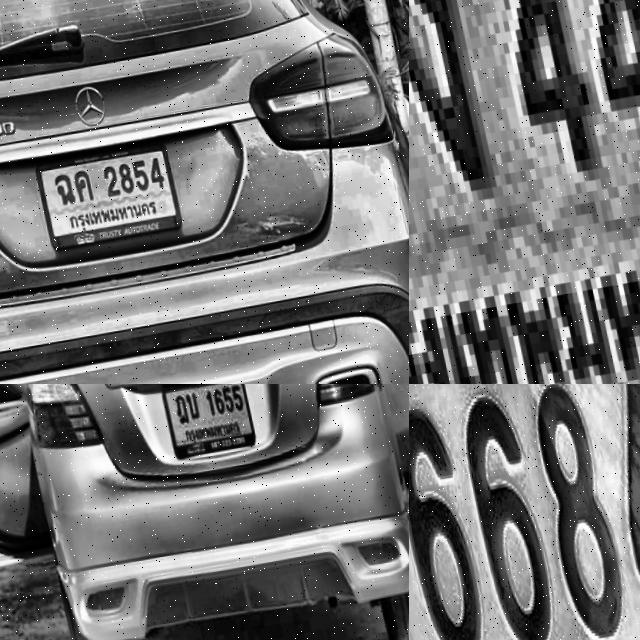license-plate: (409, 0, 640, 384), (409, 384, 640, 640), (26, 140, 182, 261), (144, 384, 263, 472)
